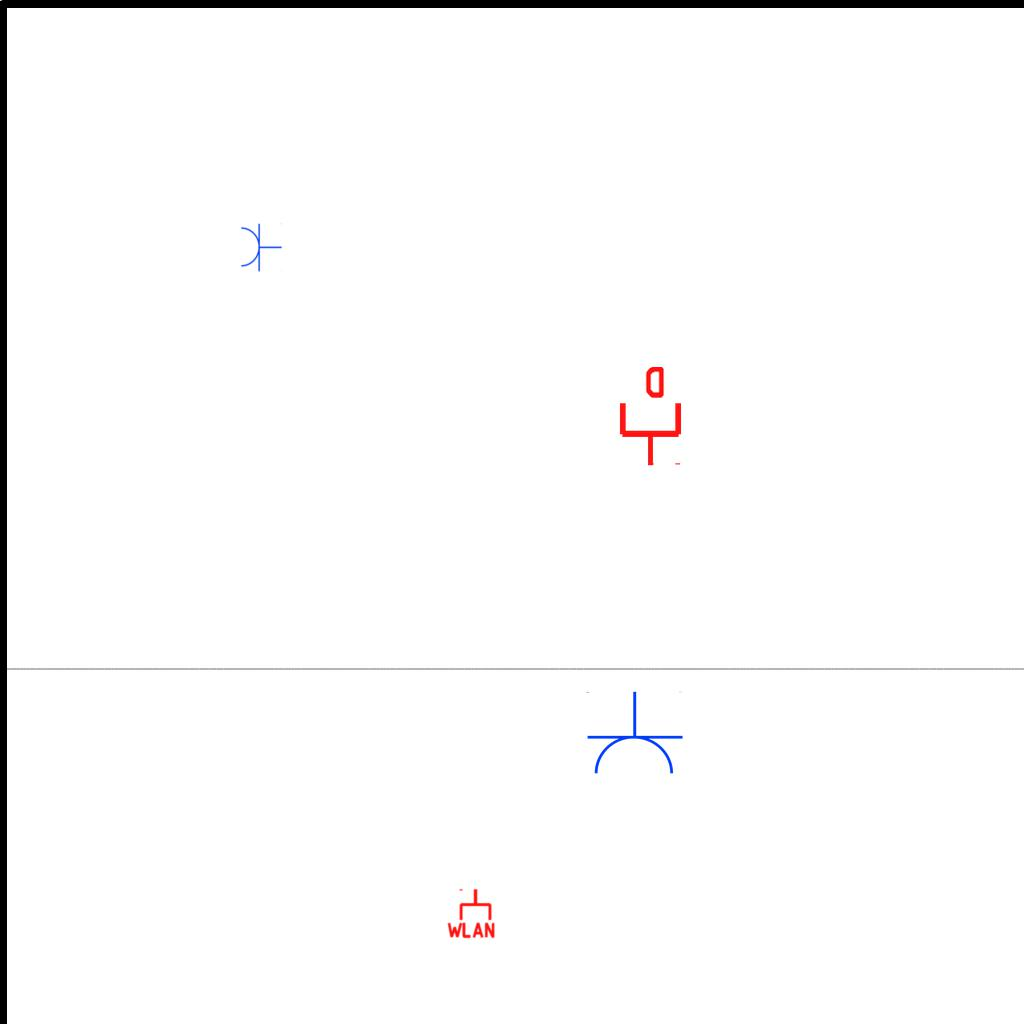Datenanschluss_einfach: (616, 367, 685, 467)
Schukosteckdose_einfach: (584, 691, 684, 778), (239, 222, 282, 272)
WLAN: (445, 887, 497, 939)
